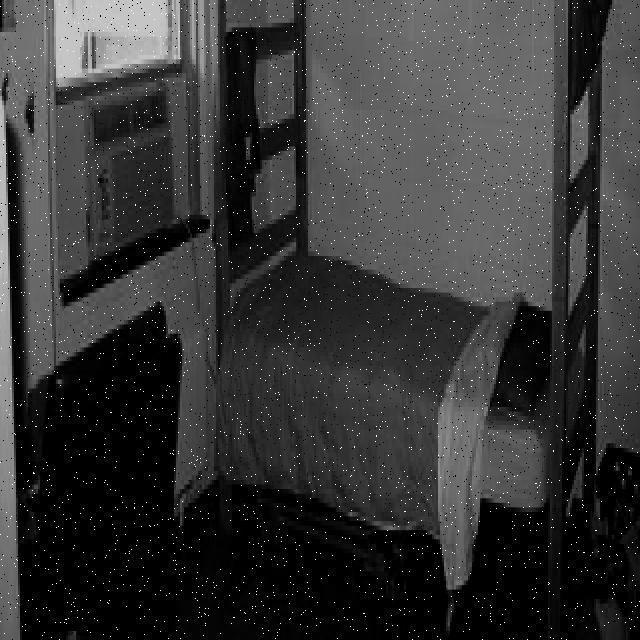bed: (215, 3, 590, 640)
